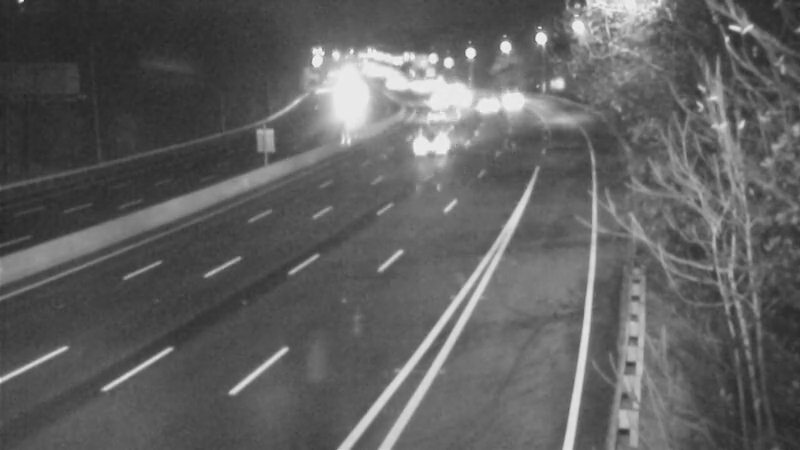vehicle: (433, 75, 483, 125), (487, 76, 537, 126), (411, 76, 461, 126), (456, 83, 506, 133), (411, 90, 461, 140), (403, 119, 453, 169)
